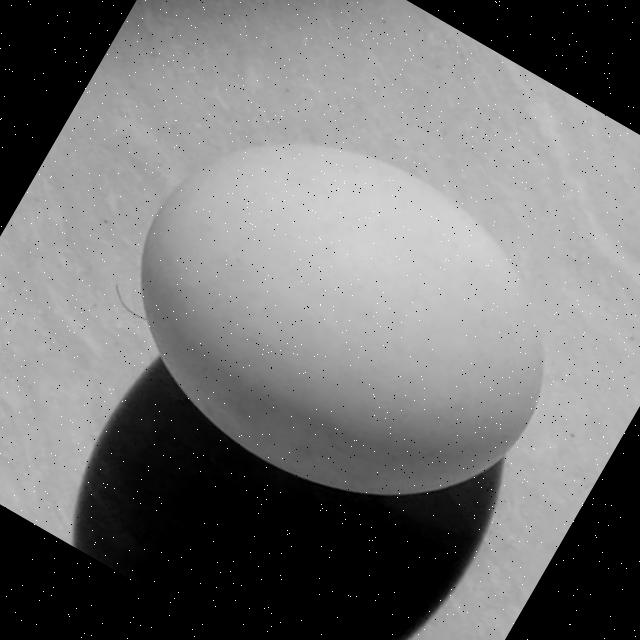ping-pong-ball: (84, 79, 606, 564)
